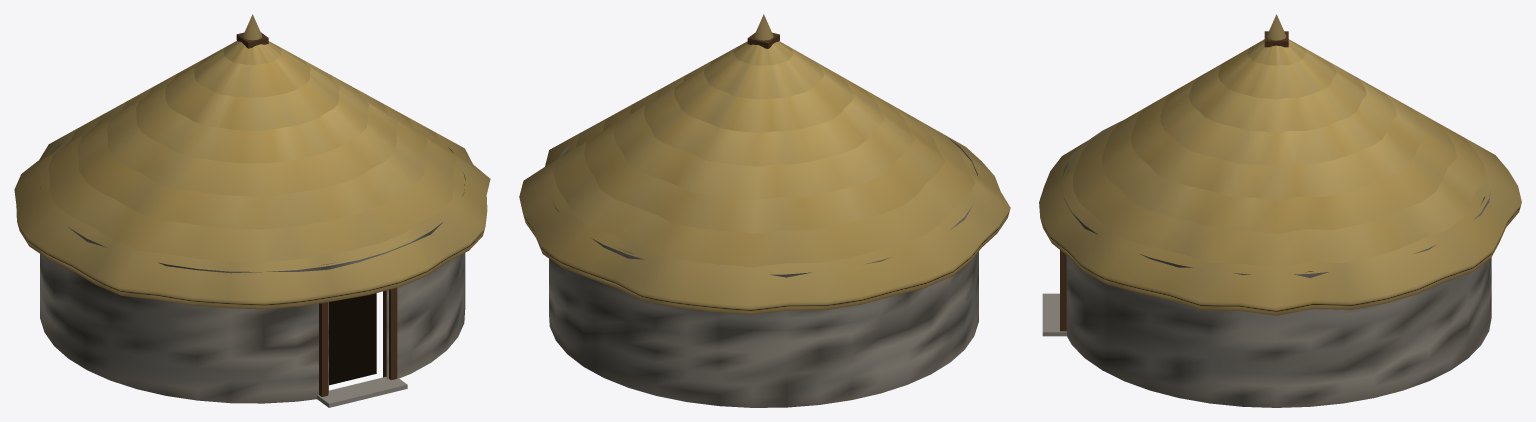
File: roundhouse-stone-5.glb
3 views of the same model, side by side, from view 1: azimuth 30°, elevation 25°; view 2: azimuth 150°, elevation 25°; view 3: azimuth 270°, elevation 25° (orthographic).
Visible parts, largest first — view 1: roundhouse-stone-5; view 2: roundhouse-stone-5; view 3: roundhouse-stone-5.
Boxes of the visible parts, x1,y1,x2,y2 form: roundhouse-stone-5: (14,14,490,407); roundhouse-stone-5: (519,14,1010,407); roundhouse-stone-5: (1039,14,1521,407).
Size of the model in its own units: 5.34 by 3.64 by 5.26.
